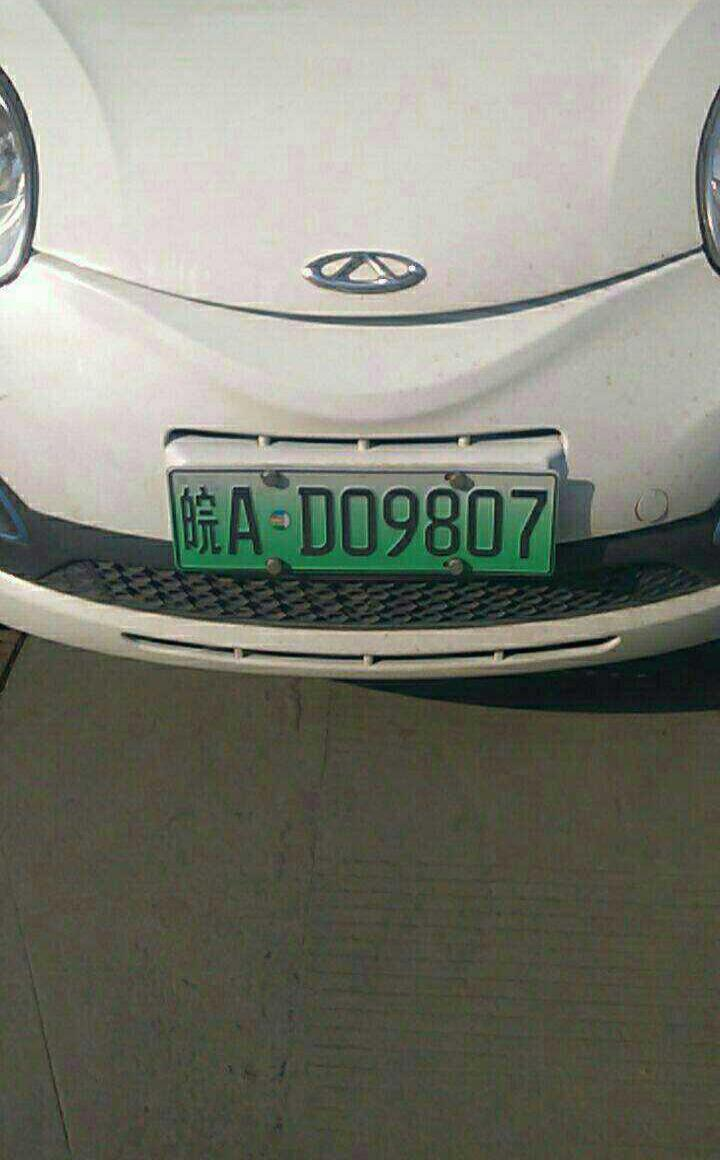car_id: (169, 469, 556, 572)
